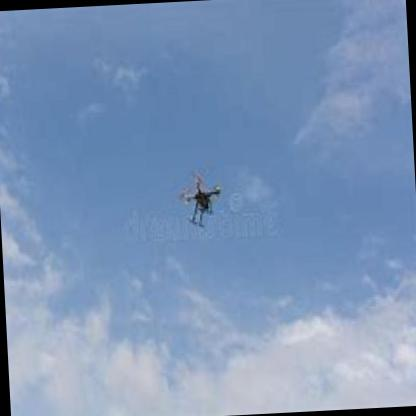drone: (174, 166, 226, 233)
